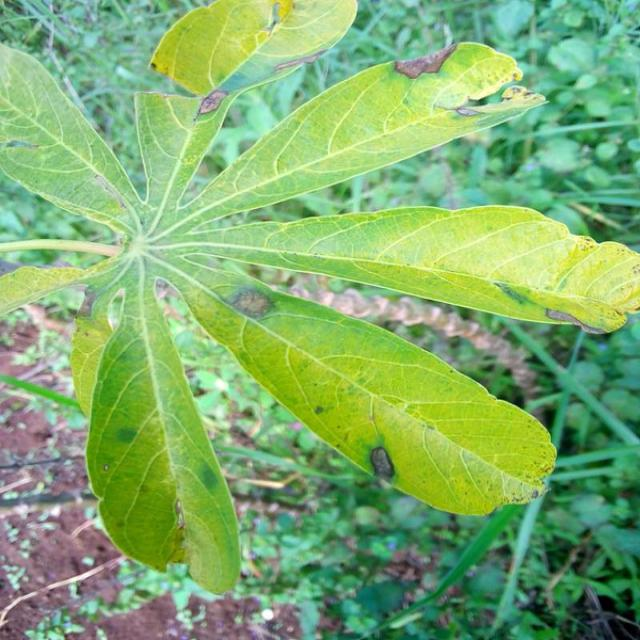cassava leaf: (2, 1, 639, 595), (169, 256, 559, 517), (76, 254, 242, 595)
